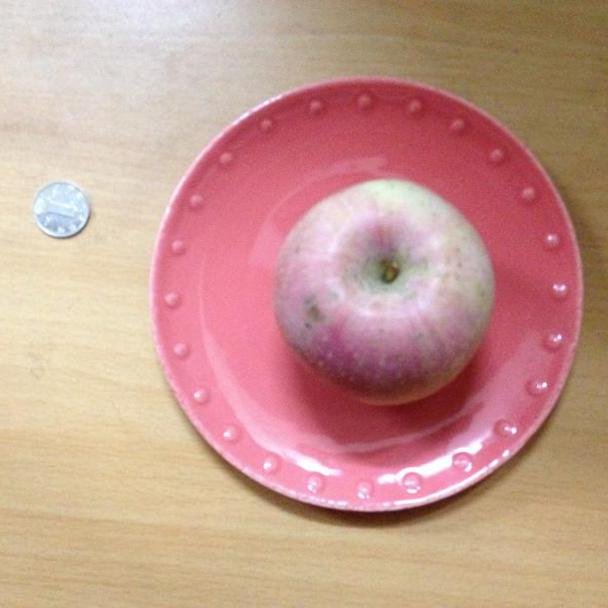apple: (270, 179, 505, 408)
